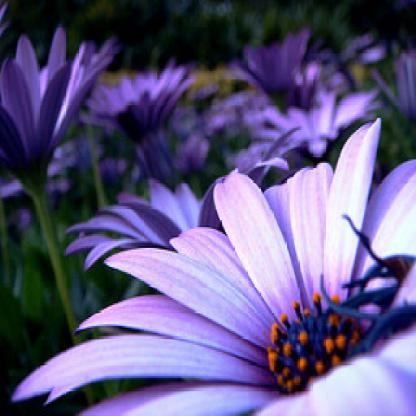ASTER: (6, 11, 409, 405)
